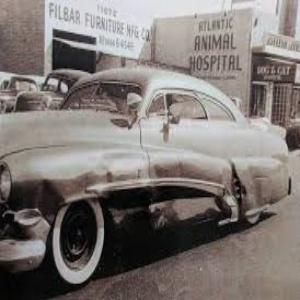door: (157, 132, 260, 218)
